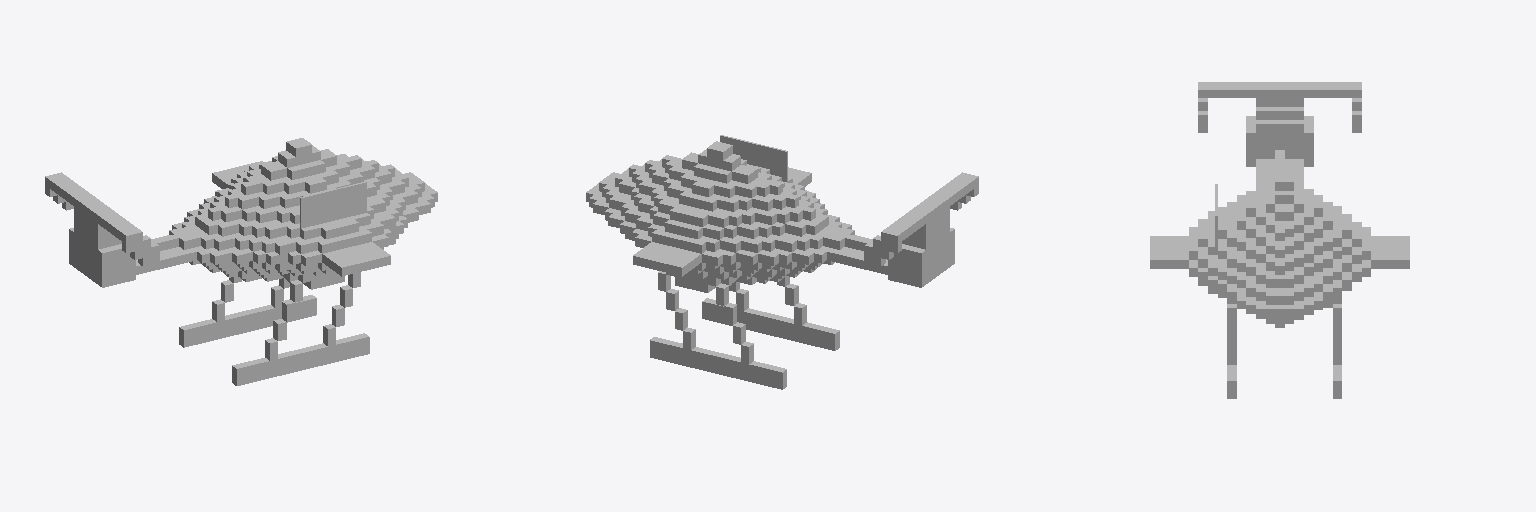
Rendered from helicopter.obj.
The picture shows the model from 3 angles: view 1: azimuth 30°, elevation 25°; view 2: azimuth 150°, elevation 25°; view 3: azimuth 270°, elevation 25°; orthographic projection.
Parts seen in each view (by area): view 1: object 1; view 2: object 1; view 3: object 1.
Part boxes in pixels (bbox=[...]): object 1: bbox=[45, 138, 437, 385]; object 1: bbox=[586, 135, 978, 389]; object 1: bbox=[1150, 82, 1409, 398].
Bounding box in the file's own units: 16.4 × 9.2 × 10.8.